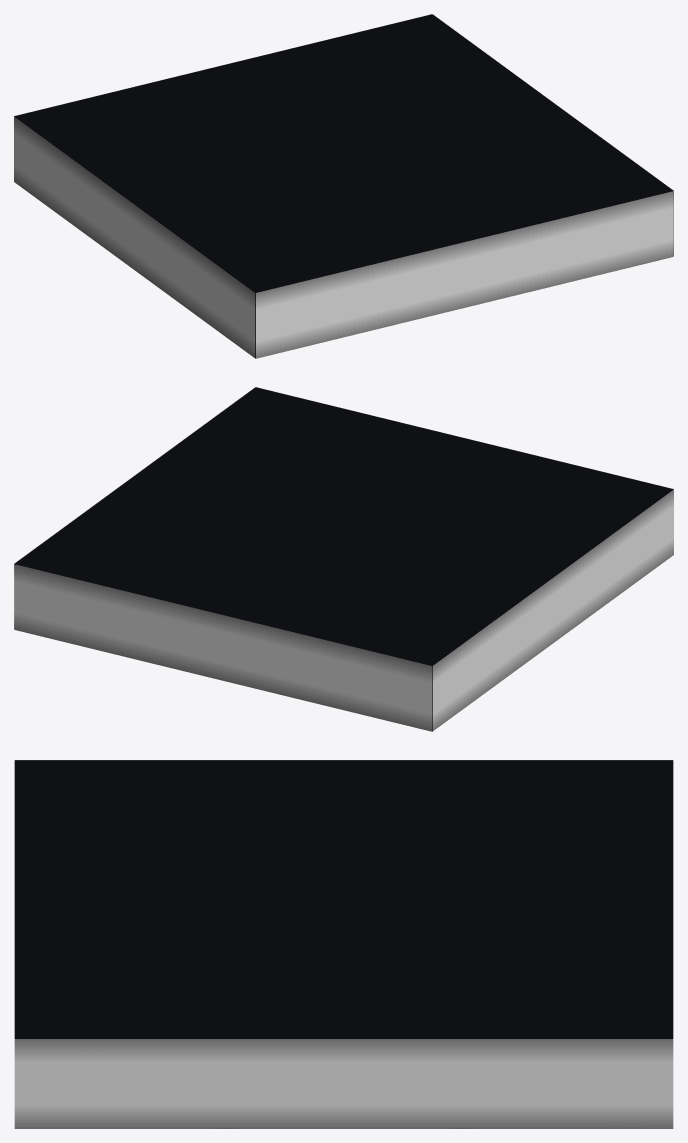
Rendered from starmap.obj.
3 views of the same model, one above another, from view 1: azimuth 30°, elevation 25°; view 2: azimuth 150°, elevation 25°; view 3: azimuth 270°, elevation 25° (orthographic). The views are drawn at different scales.
Parts seen in each view (by area): view 1: Starmap1, Starmap4, Starmap3; view 2: Starmap1, Starmap2, Starmap3; view 3: Starmap1, Starmap5, Starmap3, Starmap6.
Part boxes in pixels (x1,y1,x2,y2): Starmap1: [14, 14, 673, 358]; Starmap4: [256, 191, 673, 358]; Starmap3: [14, 116, 255, 357]; Starmap1: [14, 387, 673, 731]; Starmap2: [14, 564, 431, 731]; Starmap3: [432, 489, 673, 730]; Starmap1: [14, 760, 673, 1038]; Starmap5: [14, 1039, 673, 1128]; Starmap3: [15, 760, 672, 760]; Starmap6: [15, 1128, 672, 1128].
Bounding box in the file's own units: 20.04 × 3.02 × 20.04.
Materials: 3 (2 with a texture image).
